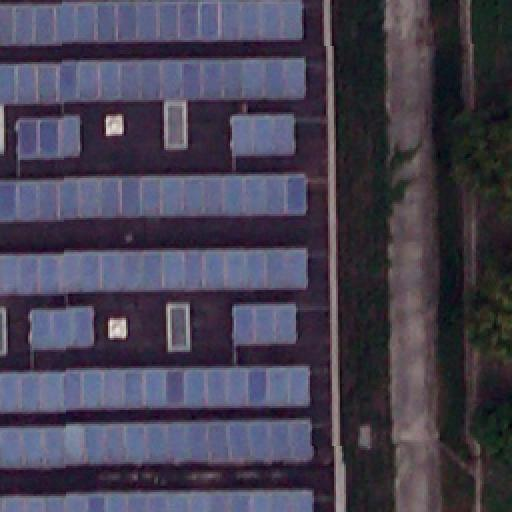solar-panel: (0, 419, 312, 469), (0, 171, 304, 221), (1, 364, 311, 412), (0, 58, 304, 106), (0, 249, 304, 295), (1, 1, 303, 47), (0, 490, 312, 510), (27, 305, 93, 351), (17, 114, 79, 162), (230, 113, 294, 159), (233, 302, 295, 346)
